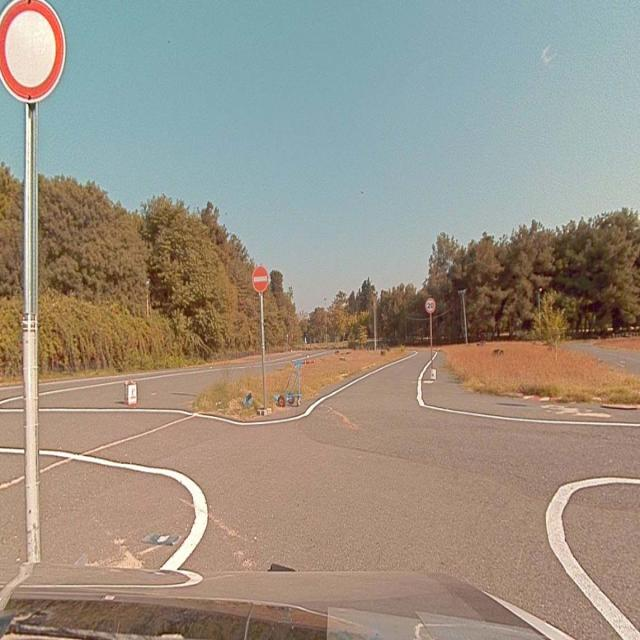20: (425, 298, 435, 313)
girisyok: (252, 268, 268, 290)
